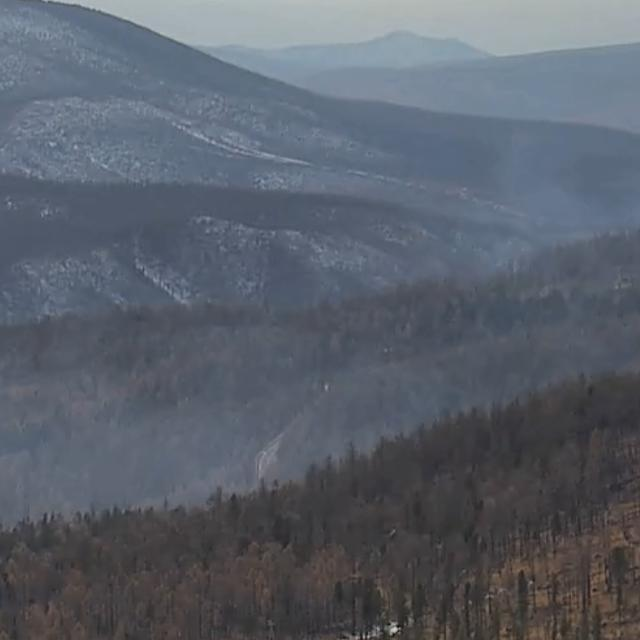Smoke: (0, 314, 243, 495), (480, 148, 639, 245)
